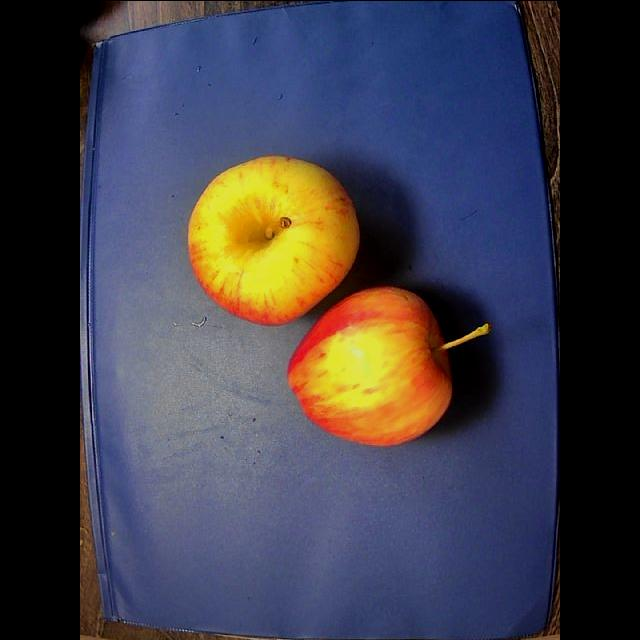manzana: (288, 286, 489, 444), (188, 156, 359, 324)
